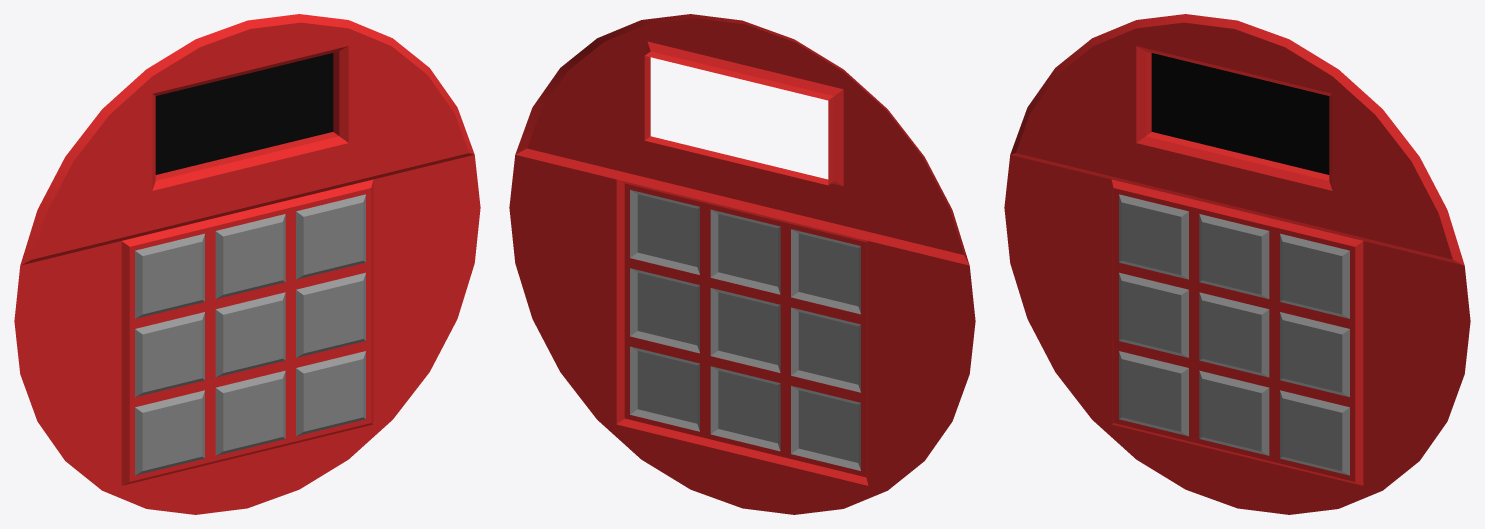
Rendered from Safe_Keypad.FBX.
3 views of the same model, side by side, from view 1: azimuth 30°, elevation 25°; view 2: azimuth 150°, elevation 25°; view 3: azimuth 330°, elevation 25° (orthographic).
Visible parts, largest first — view 1: Safe_Keypad; view 2: Safe_Keypad; view 3: Safe_Keypad.
Part boxes in pixels (left/top/right/bottom): Safe_Keypad: left=14, top=14, right=480, bottom=514; Safe_Keypad: left=509, top=14, right=975, bottom=514; Safe_Keypad: left=1004, top=14, right=1470, bottom=514.
Size of the model in its own units: 5.73 by 5.73 by 0.2466.
